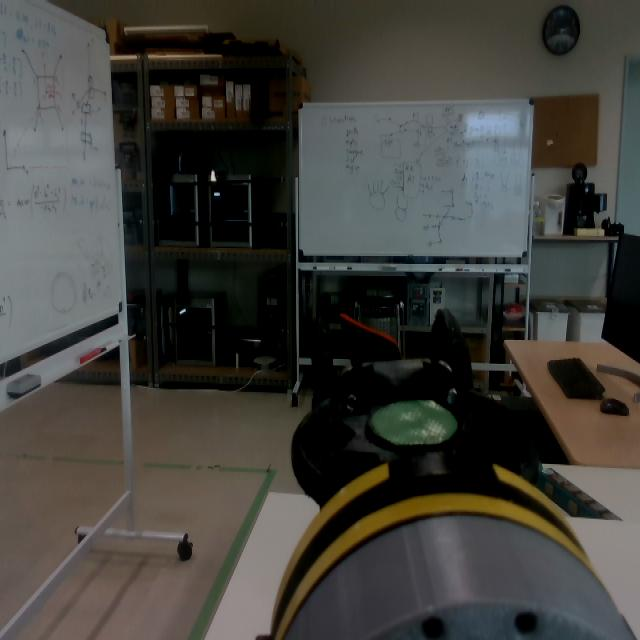body_connector: (279, 516, 638, 640)
connection: (255, 455, 637, 640)
leg: (256, 309, 596, 640)
leg_connector: (258, 452, 595, 640)
marker: (370, 400, 458, 447)
